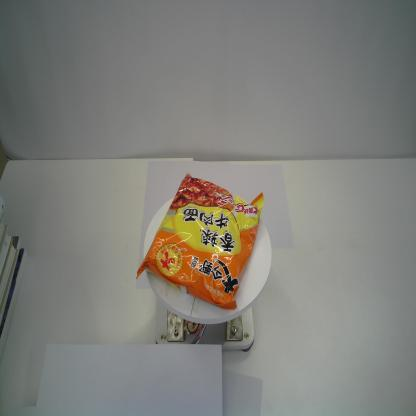Instant Noodles: (136, 171, 263, 310)
